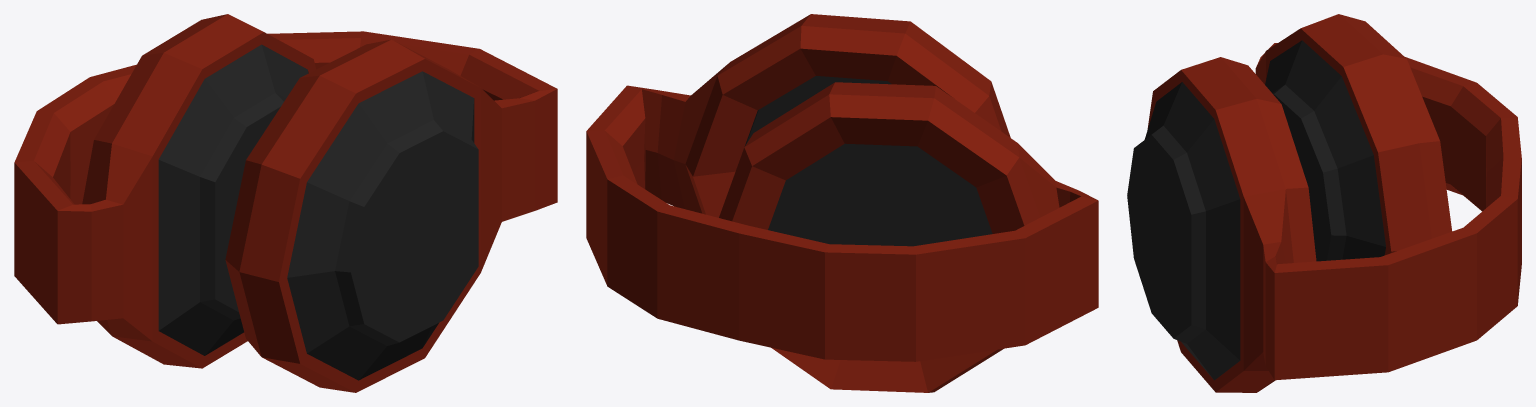
The model's file is HeadphonesV2Red.fbx.
3 renders of one model, left to right at view 1: azimuth 30°, elevation 25°; view 2: azimuth 150°, elevation 25°; view 3: azimuth 270°, elevation 25°, orthographic. The views are drawn at different scales.
Parts seen in each view (by area): view 1: HeadphonesV2Red; view 2: HeadphonesV2Red; view 3: HeadphonesV2Red.
Boxes of the visible parts, box(x1,y1,x2,y2) form: HeadphonesV2Red: box(14, 14, 557, 392); HeadphonesV2Red: box(586, 14, 1098, 392); HeadphonesV2Red: box(1127, 14, 1521, 392).
Size of the model in its own units: 24.13 by 14.38 by 17.49.
